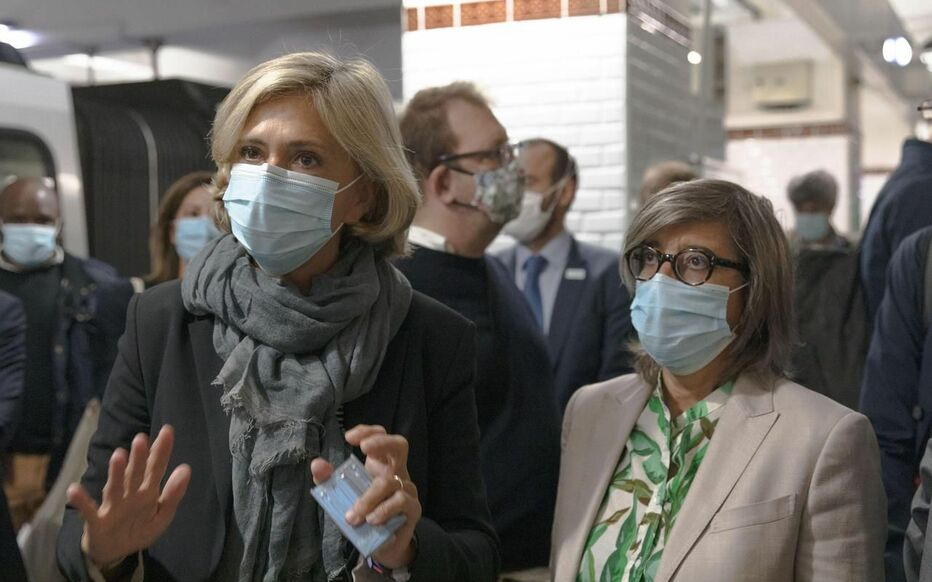with_mask: (230, 138, 346, 246), (640, 239, 736, 361)
